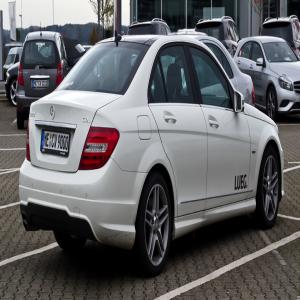Vehicle-registration-plate: (43, 126, 66, 159), (34, 80, 48, 89)
